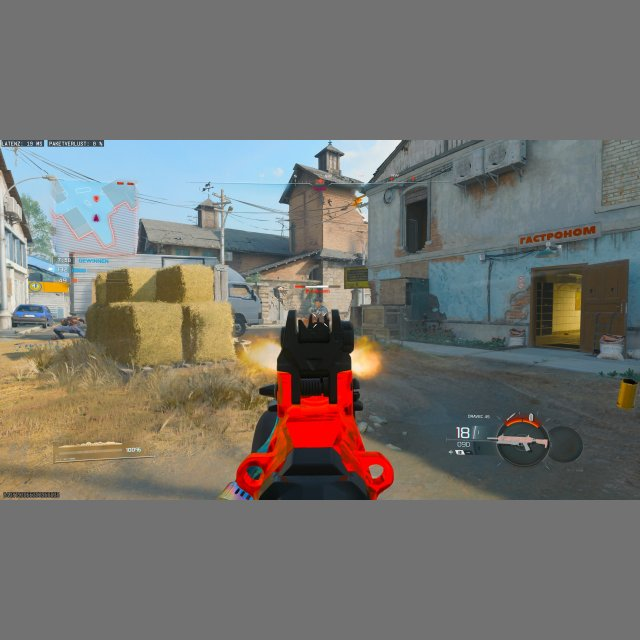player: (311, 299, 328, 326)
